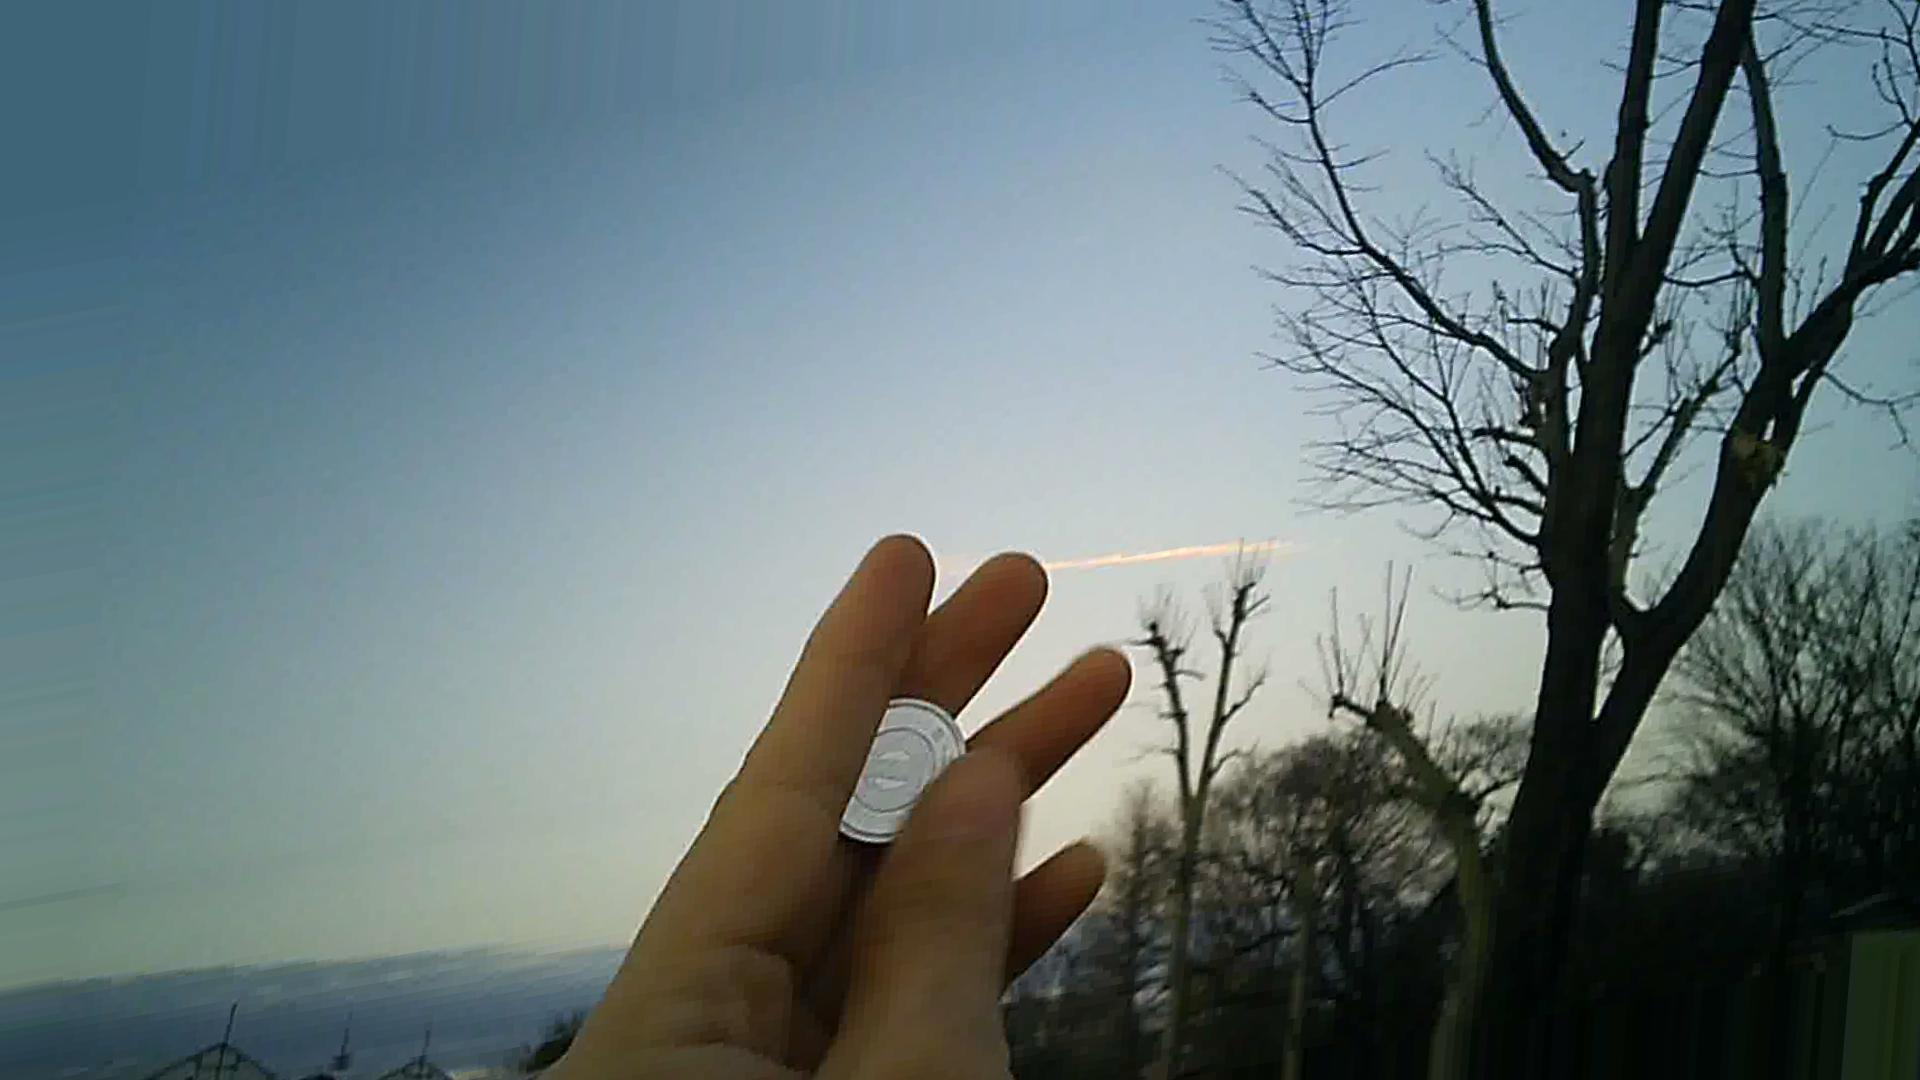1 Yen: (822, 692, 971, 853)
